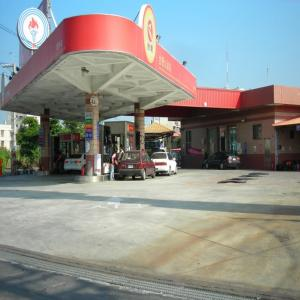Vehicle-registration-plate: (129, 166, 134, 169)
